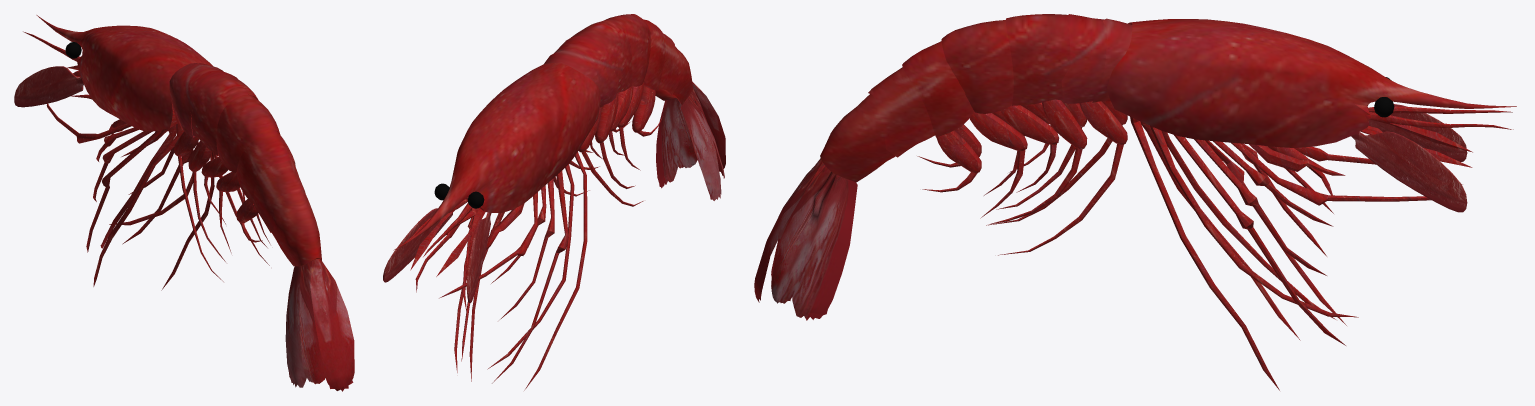
The picture shows the model from 3 angles, left to right: view 1: azimuth 30°, elevation 25°; view 2: azimuth 150°, elevation 25°; view 3: azimuth 270°, elevation 25°; orthographic projection. The views are drawn at different scales.
Visible parts, largest first — view 1: 3DSMeshMatrix (×27); view 2: 3DSMeshMatrix (×31); view 3: 3DSMeshMatrix (×30).
Boxes of the visible parts, x1=… form: 3DSMeshMatrix (×27): x1=14, y1=15, x2=354, y2=391; 3DSMeshMatrix (×31): x1=383, y1=14, x2=725, y2=390; 3DSMeshMatrix (×30): x1=754, y1=14, x2=1516, y2=390.
Size of the model in its own units: 1945 by 5437 by 10557.
6 materials, 5 textured.
